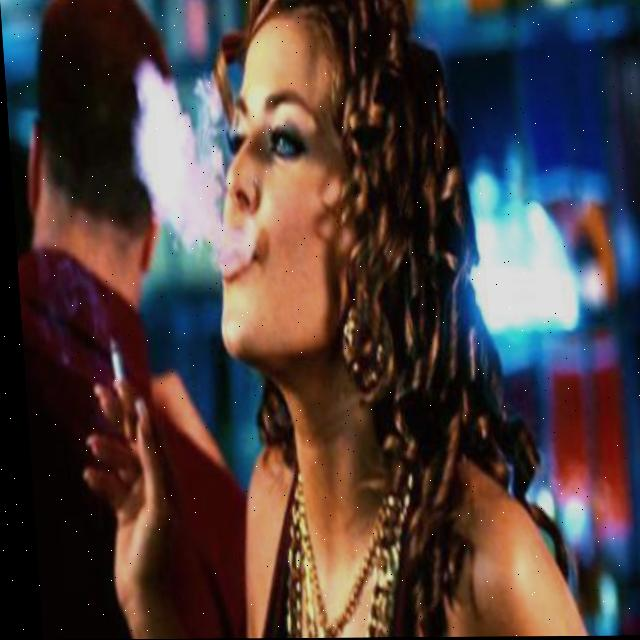cigarette: (105, 338, 130, 442)
